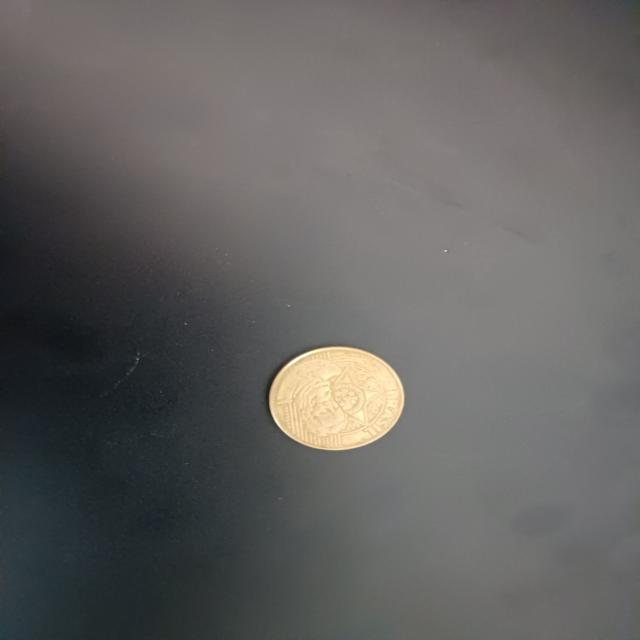25 cents: (272, 341, 406, 451)
